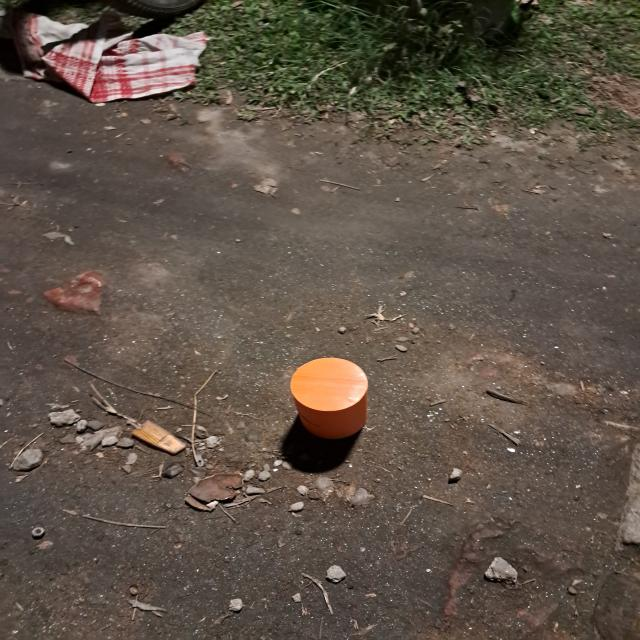Cylinder: (289, 356, 369, 440)
